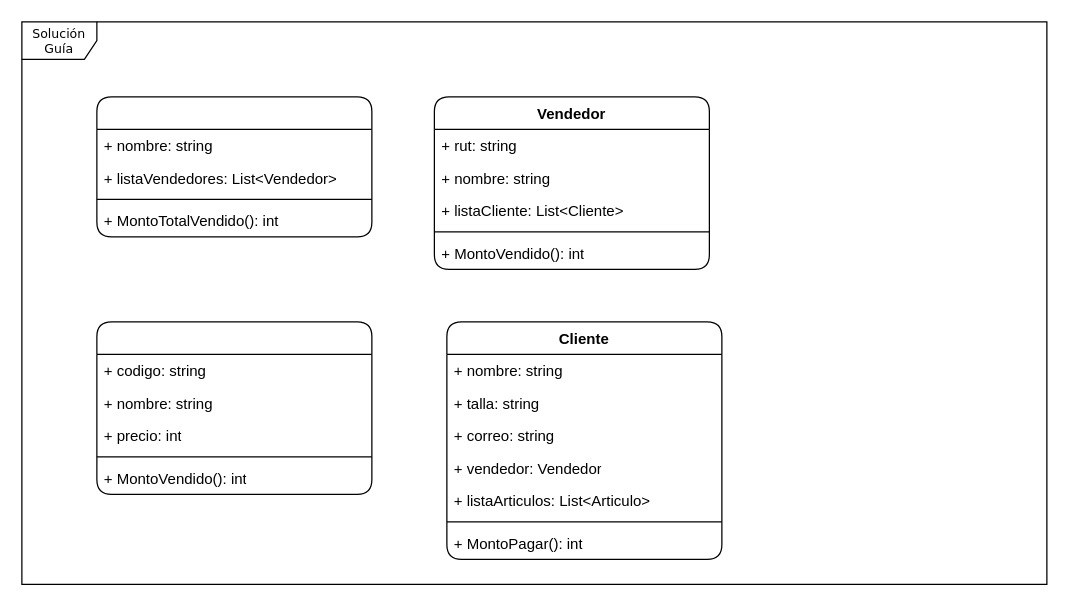
The diagram is 1069 pixels wide and 606 high, and some of its shapes have lost their labels. Each missing label, with the box of its shape:
Articulo: (96, 321, 372, 494)
Tienda: (96, 96, 372, 237)
